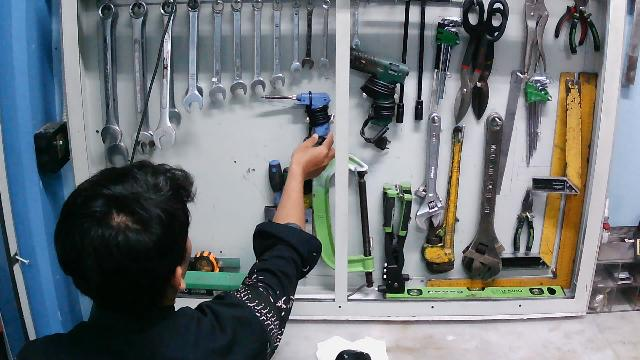solder_electrical: (259, 90, 334, 151)
